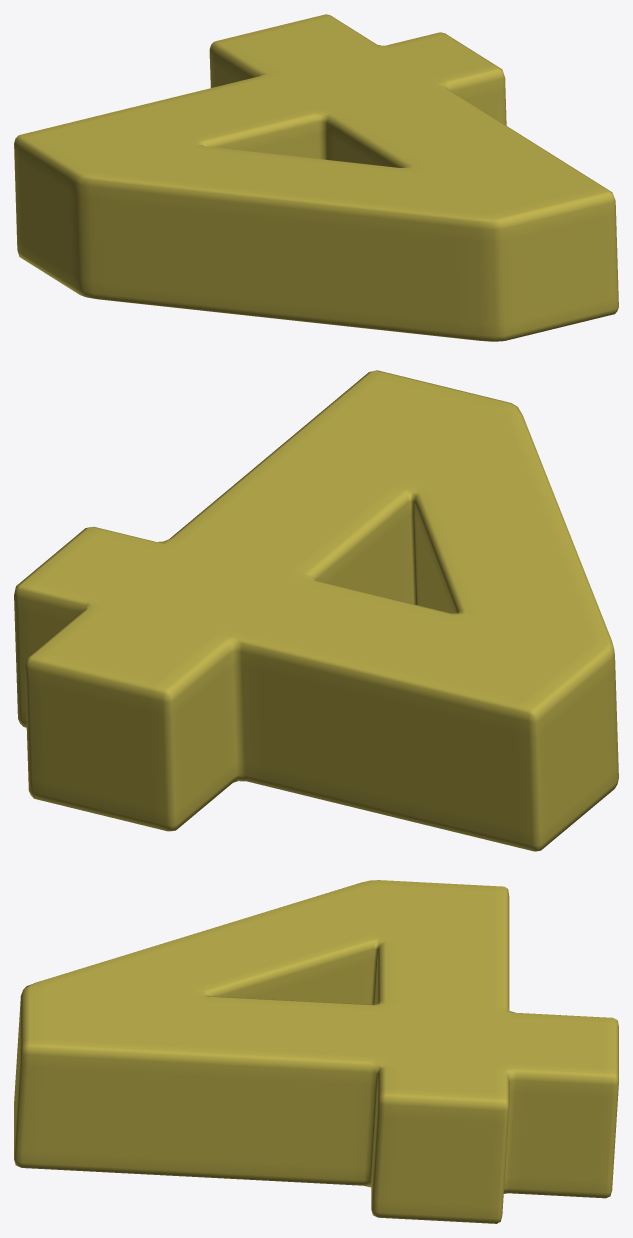
The picture shows the model from 3 angles, top to bottom: view 1: azimuth 30°, elevation 25°; view 2: azimuth 150°, elevation 25°; view 3: azimuth 270°, elevation 25°; orthographic projection. The views are drawn at different scales.
Parts seen in each view (by area): view 1: Four_lambert1_0; view 2: Four_lambert1_0; view 3: Four_lambert1_0.
Part boxes in pixels (left/top/right/bottom): Four_lambert1_0: left=14, top=14, right=618, bottom=341; Four_lambert1_0: left=14, top=370, right=618, bottom=851; Four_lambert1_0: left=14, top=880, right=618, bottom=1223.
Bounding box in the file's own units: 1.88 × 0.6202 × 2.2.
